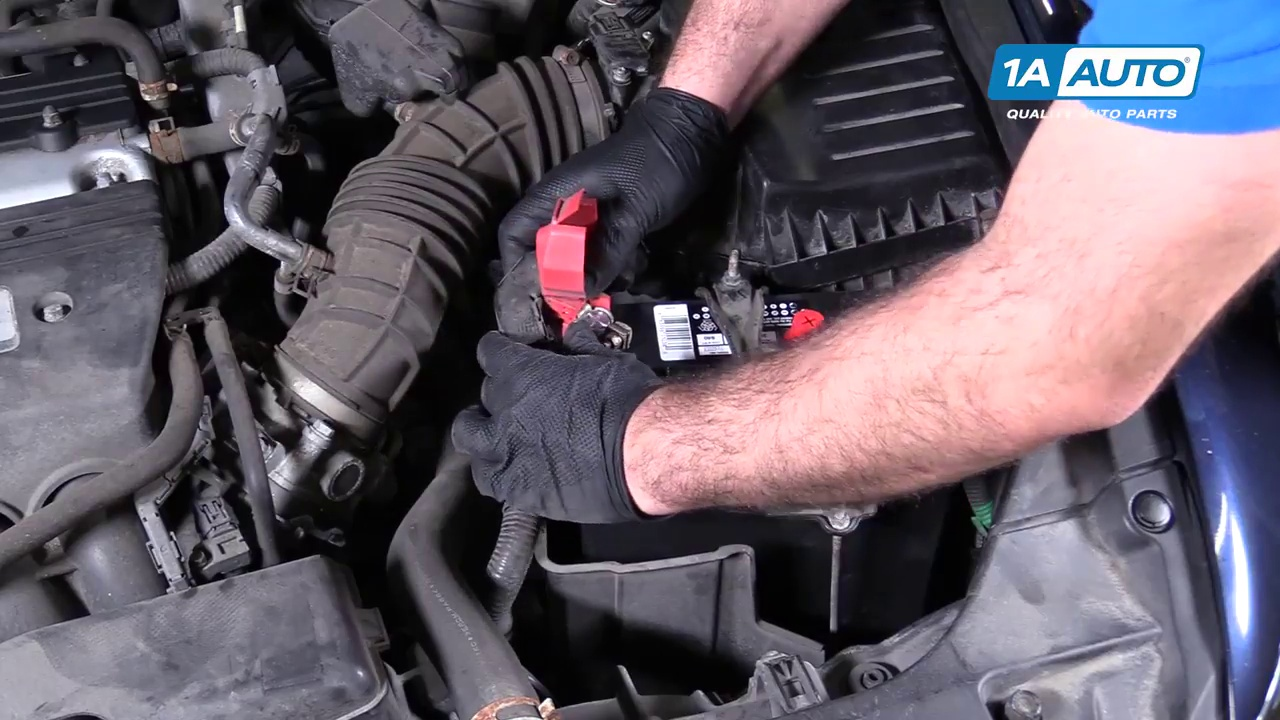battery: (522, 262, 920, 417)
pos_touched: (520, 181, 674, 383)
